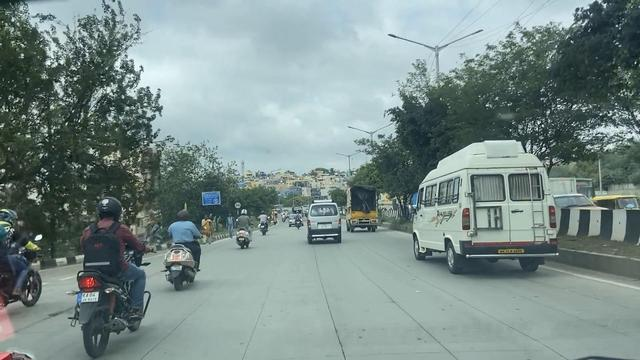HMV: (410, 159, 554, 267), (354, 183, 385, 233)
LMV: (74, 207, 149, 347), (0, 206, 52, 312), (162, 209, 206, 284), (305, 199, 345, 243), (233, 209, 254, 248)
